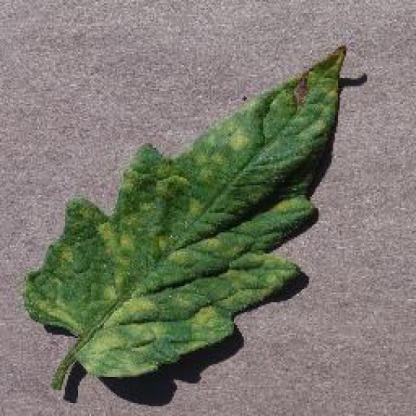Tomato_Leaf_Mold: (26, 43, 345, 376)
